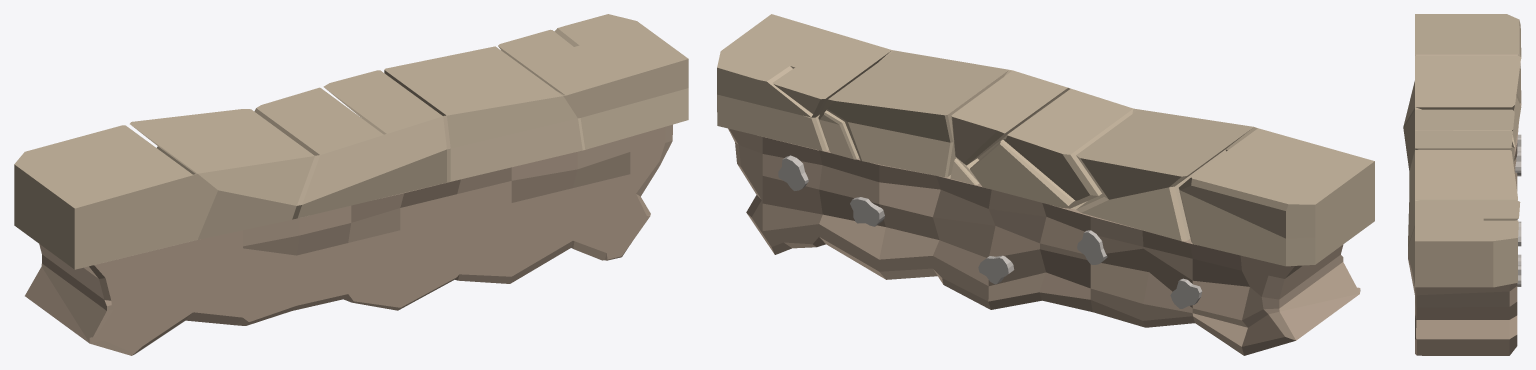
Rendered from DirtPlatform.fbx.
3 renders of one model, left to right at view 1: azimuth 30°, elevation 25°; view 2: azimuth 150°, elevation 25°; view 3: azimuth 270°, elevation 25°, orthographic. The views are drawn at different scales.
Visible parts, largest first — view 1: polySurface67; view 2: polySurface67; view 3: polySurface67.
Boxes of the visible parts, left/top/right/bottom form: polySurface67: left=14, top=14, right=688, bottom=355; polySurface67: left=717, top=14, right=1374, bottom=355; polySurface67: left=1403, top=14, right=1521, bottom=355.
Bounding box in the file's own units: 10.51 × 3.09 × 2.31.
